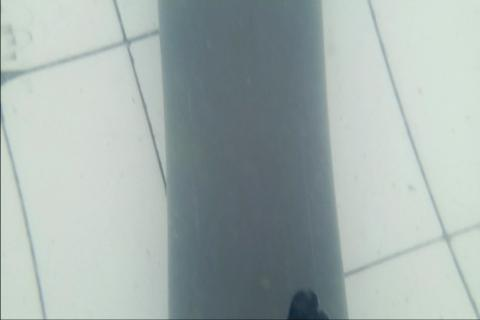kebocoran: (284, 286, 330, 320)
